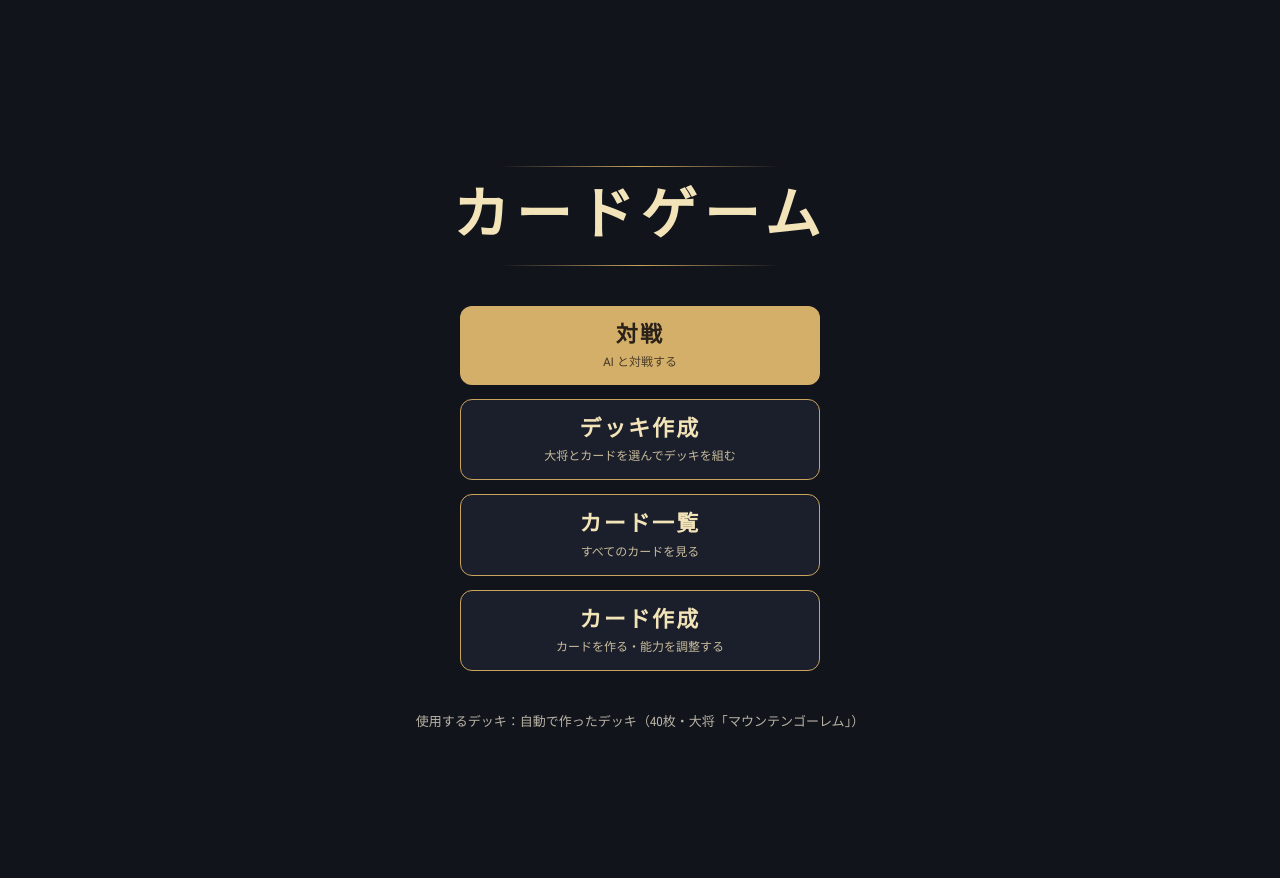
Scenario: App navigation › saves an edited deck and uses it from the menu
Click the button "デッキ作成 大将とカードを選んでデッキを組む" at x=640, y=440, box 460,399 -> 820,480
(page scrolled)
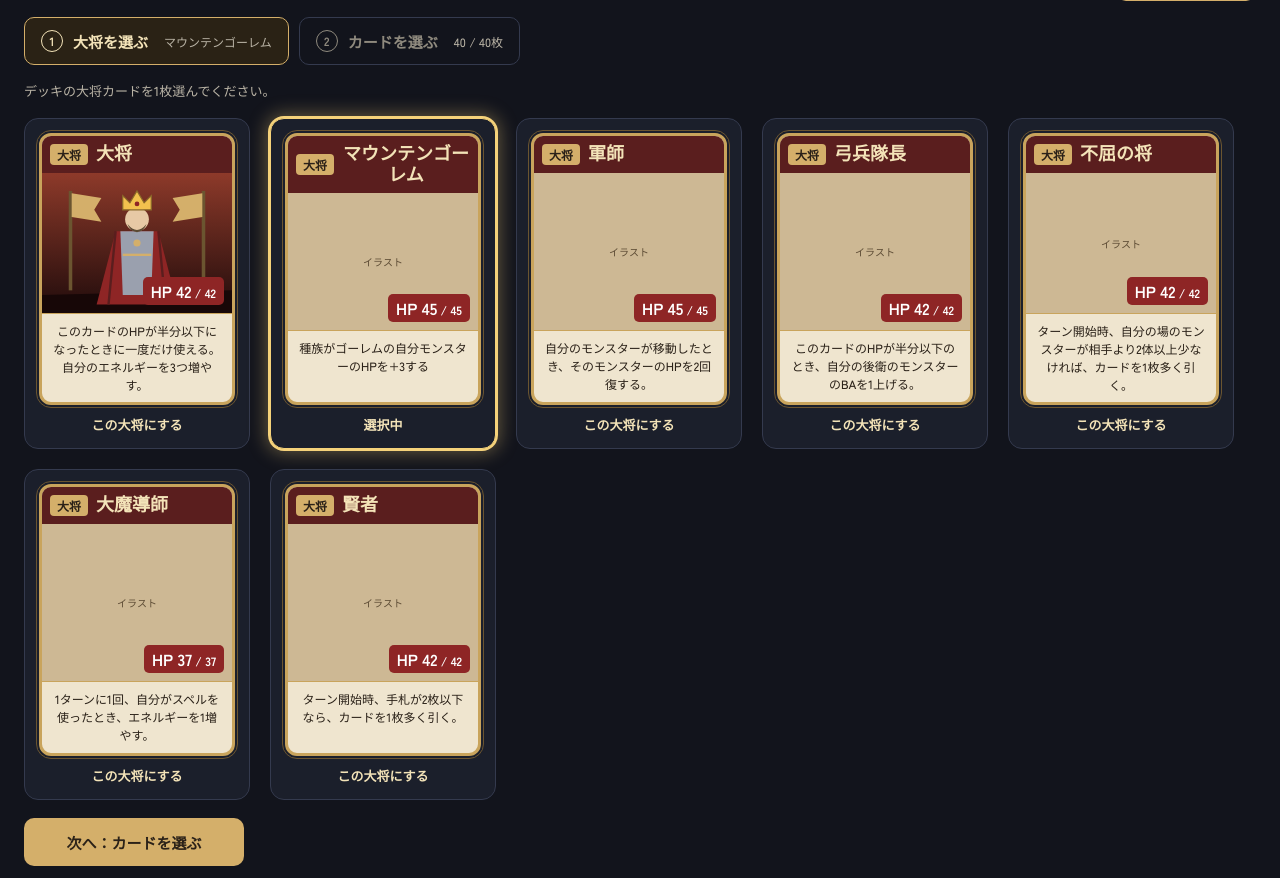
Click the button "次へ：カードを選ぶ" at x=134, y=842, box 24,818 -> 244,866
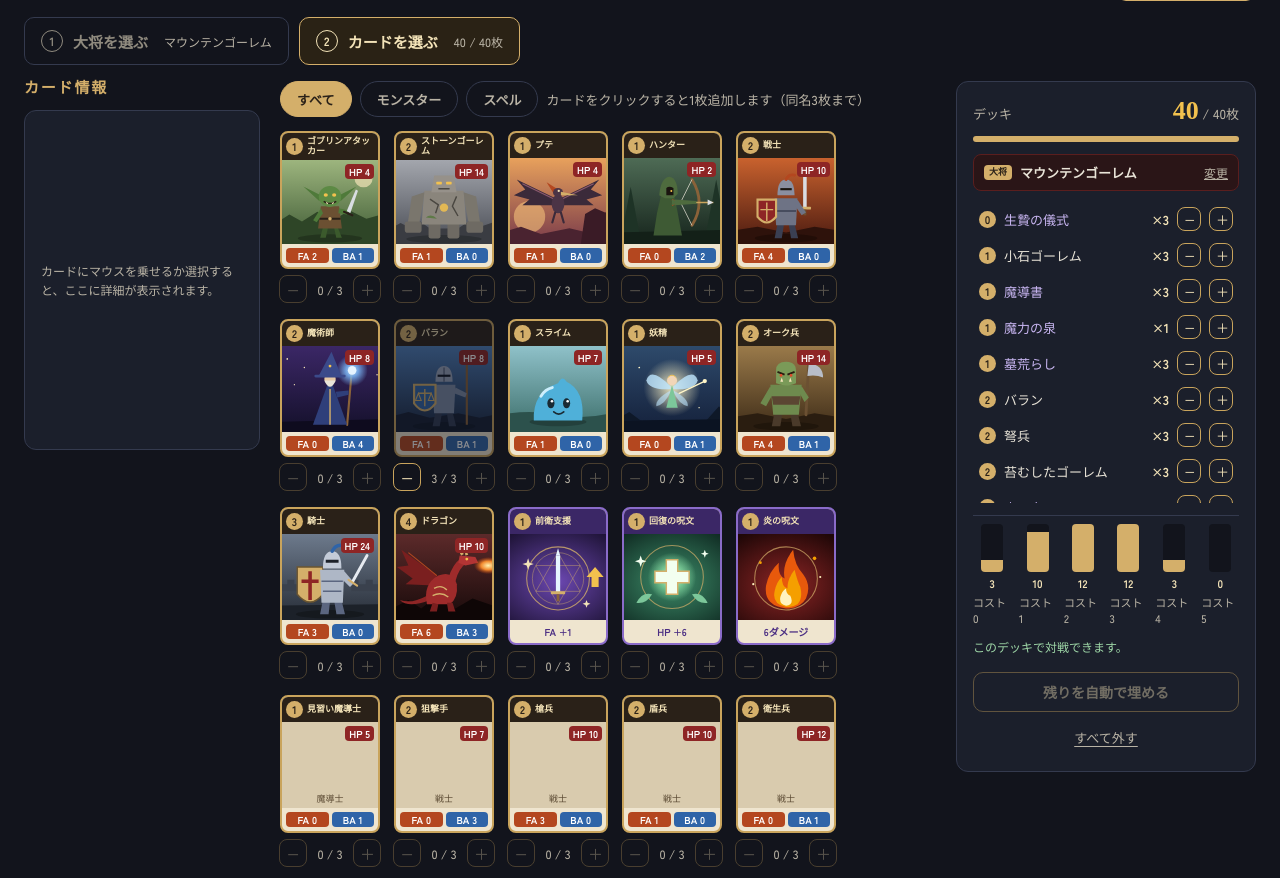
Click the button "すべて外す" at x=1106, y=738, box 1074,720 -> 1138,755
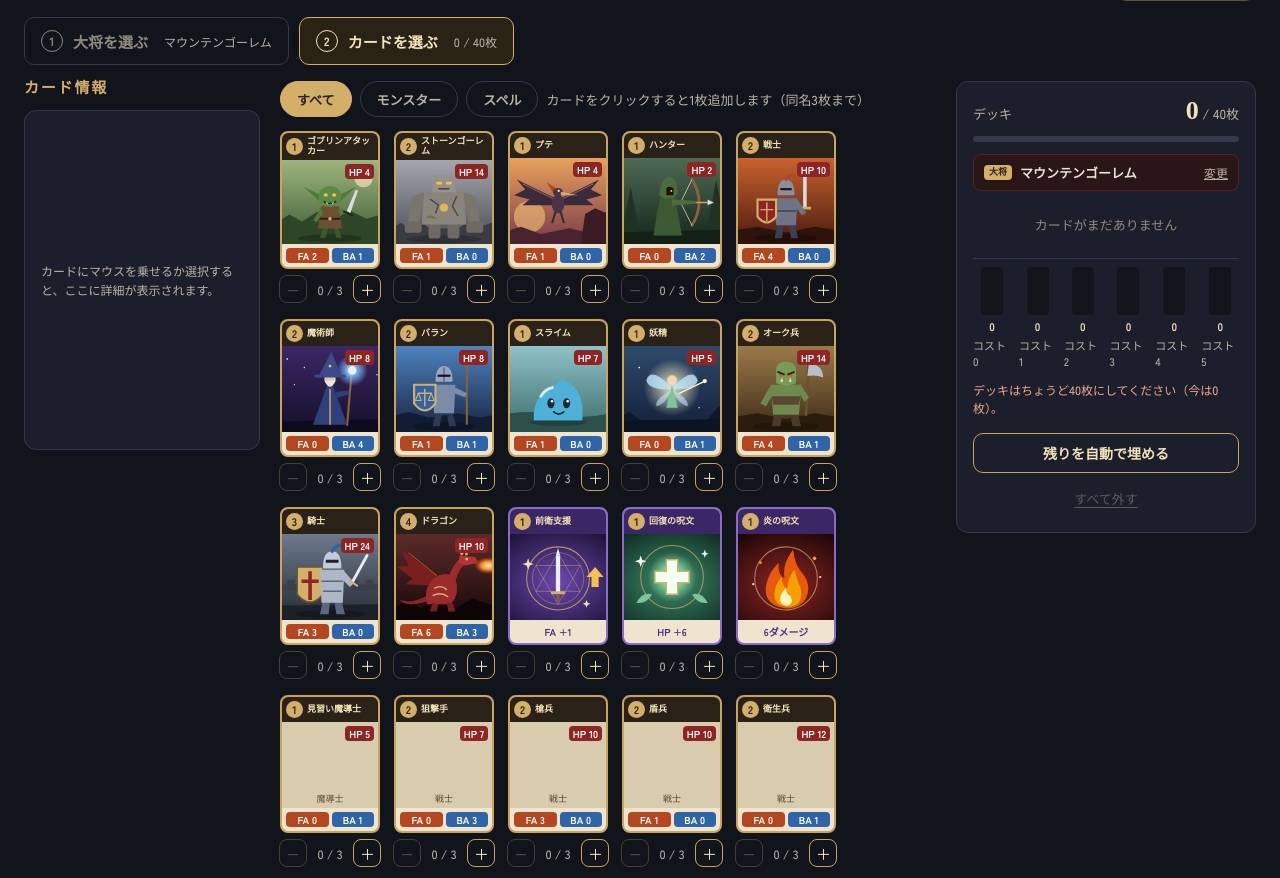
Click the button "残りを自動で埋める" at x=1106, y=453, box 973,433 -> 1239,473
(page scrolled)
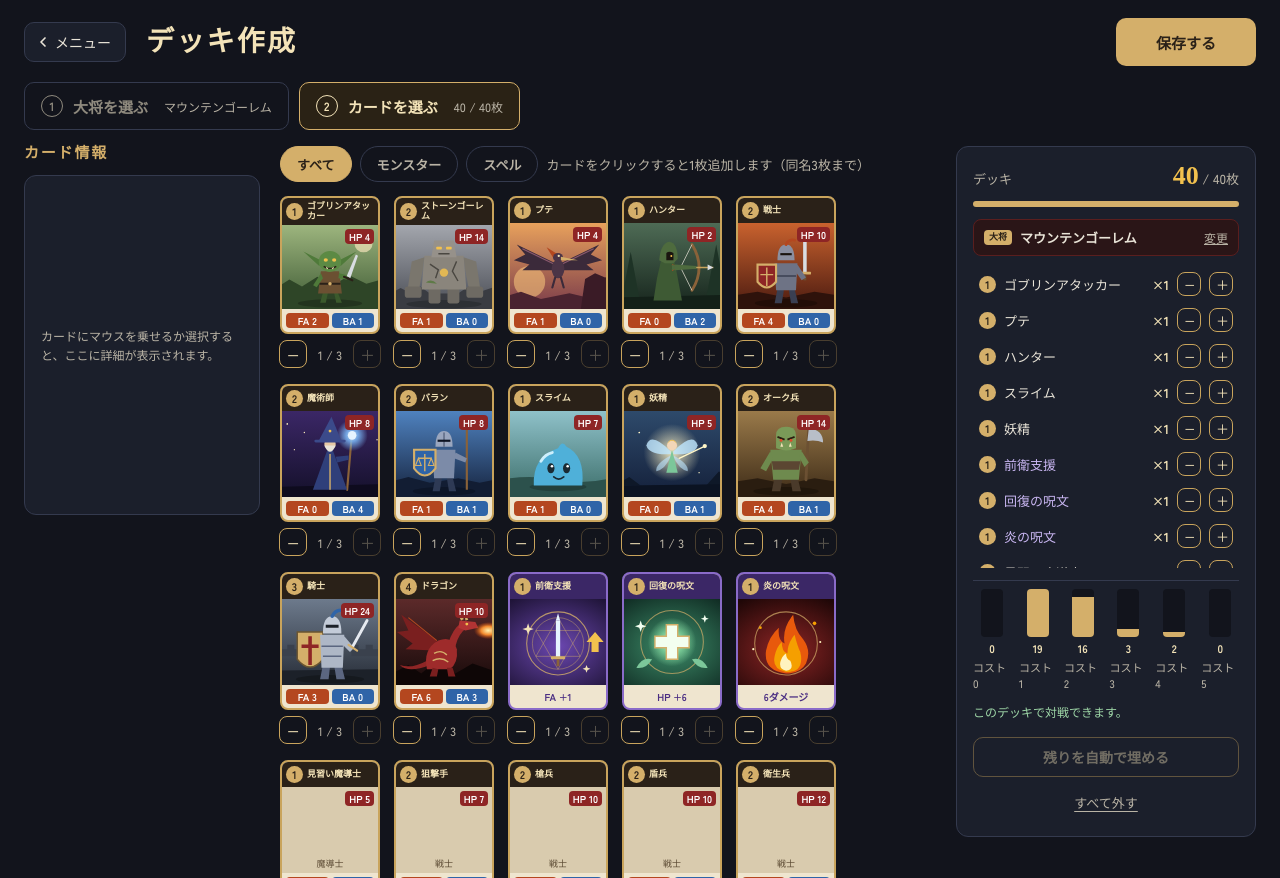
Click the button "保存する" at x=1186, y=42, box 1116,18 -> 1256,66
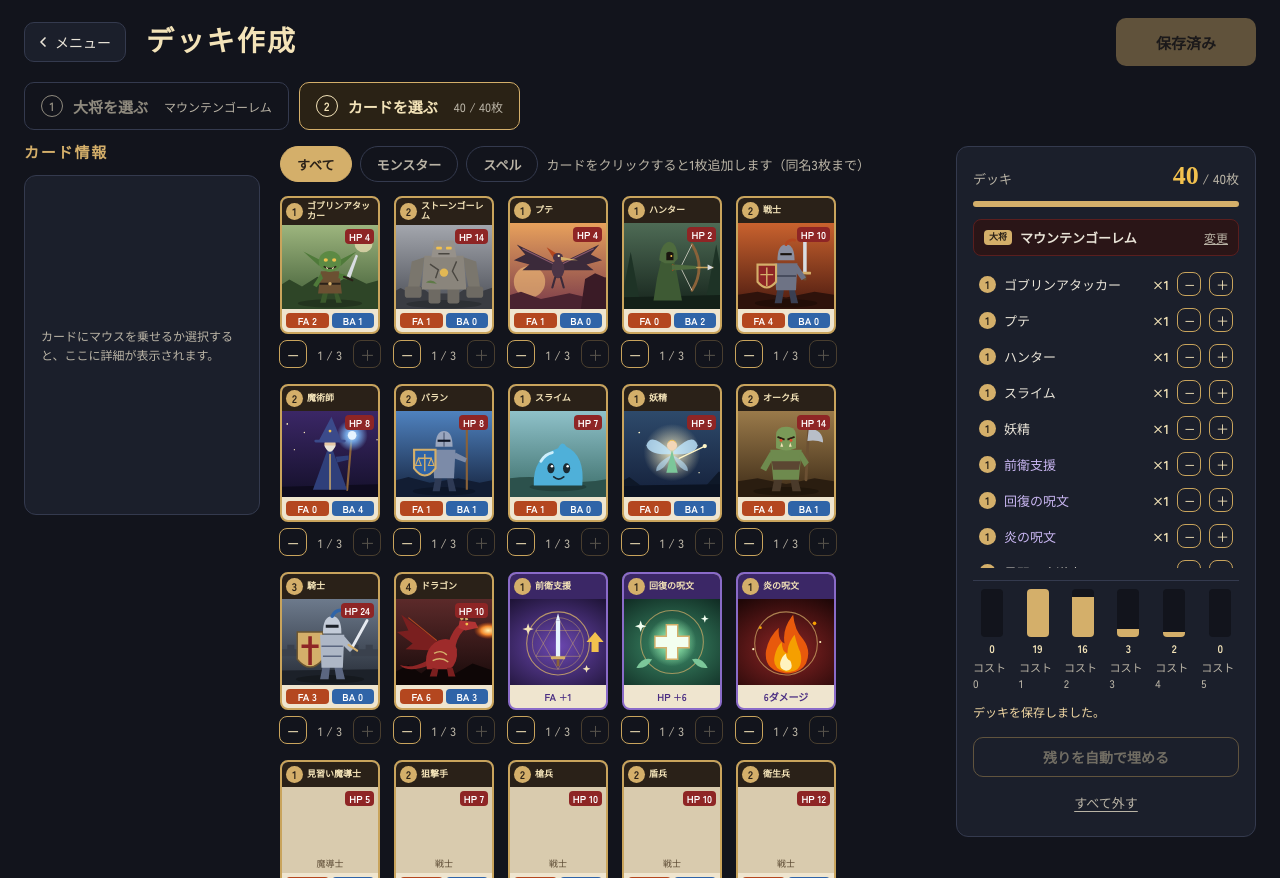
Result: the text "デッキを保存しました。" is shown at 973,703 -> 1105,720
Click the button "メニュー" at x=75, y=42, box 24,22 -> 126,62
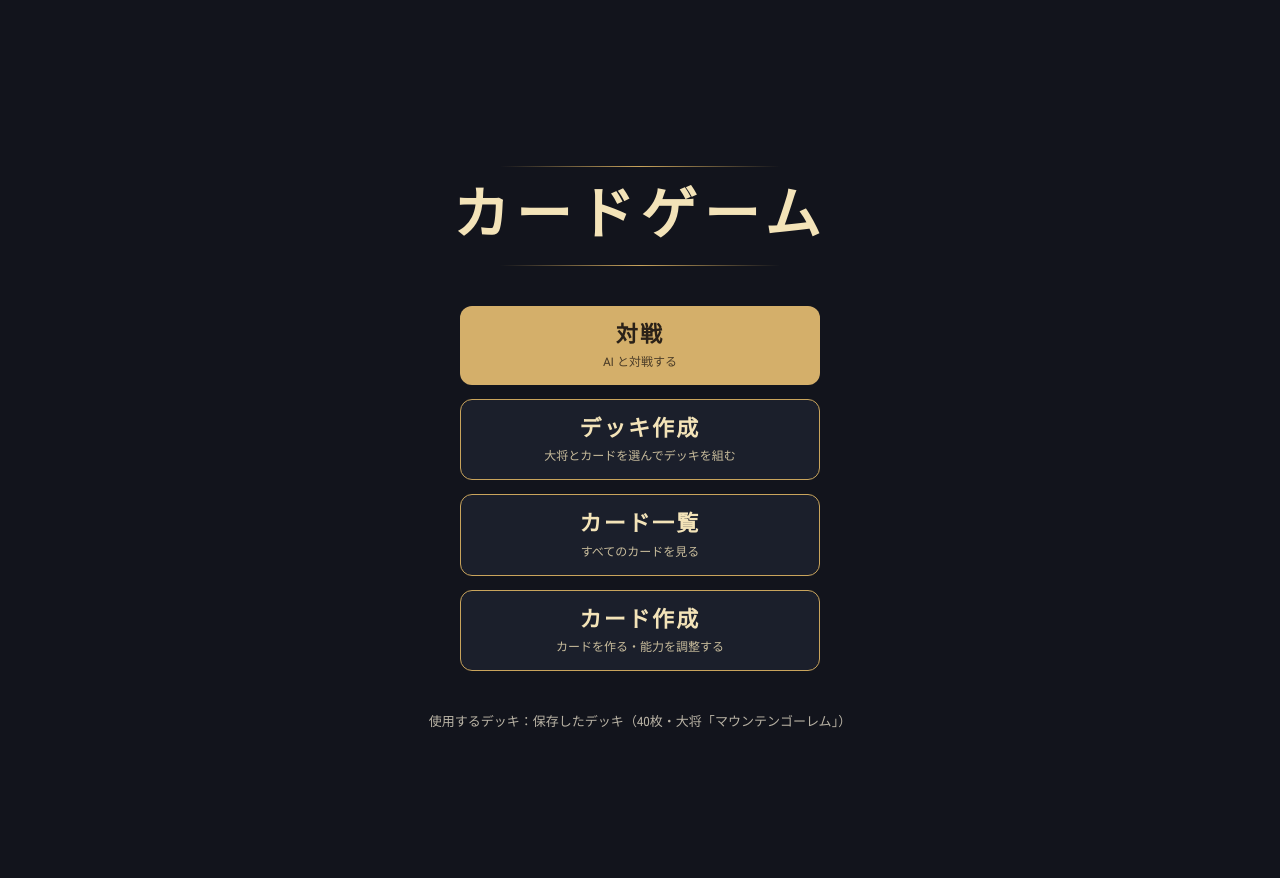
Result: the text "使用するデッキ：保存したデッキ（40枚・大将「マウンテンゴーレム」）" is shown at 429,711 -> 851,730
